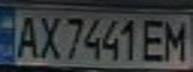1: (118, 16, 142, 62)
4: (81, 15, 106, 61), (100, 15, 124, 62)
7: (60, 12, 84, 61)
A: (9, 11, 42, 60)
E: (139, 16, 169, 63)
M: (160, 16, 193, 62)
X: (33, 11, 63, 60)
